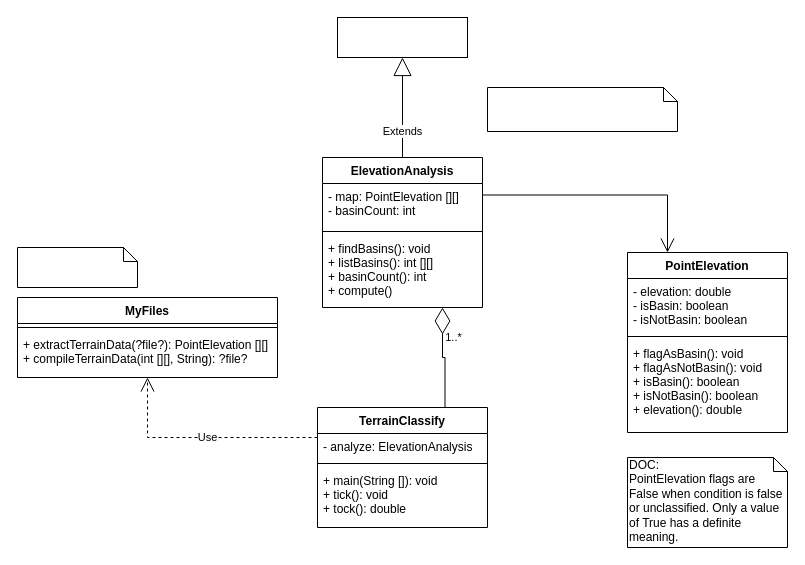
Some shapes in this 805 by 565 pixel diagram are drawn without their labels. The shapes that lost their labels are listed below. From the top down, each one's centre as x and y in pixels, then its label:
At point (402, 37): "RecursiveTask<>".
At point (582, 109): "Only extend RecursiveTask in parallel version (obviously)".
At point (77, 267): "MyFiles package-private?".
